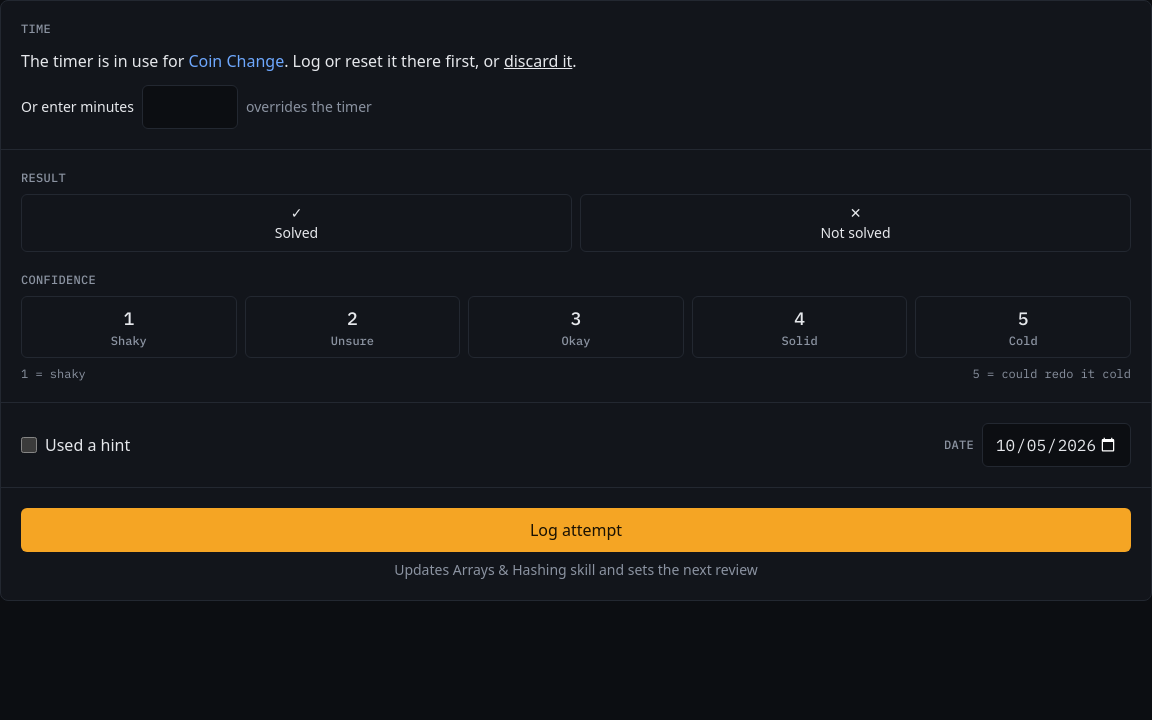
Test: another problem's timer can be discarded
Click the button "discard it": click(538, 61) [504,49,572,73]
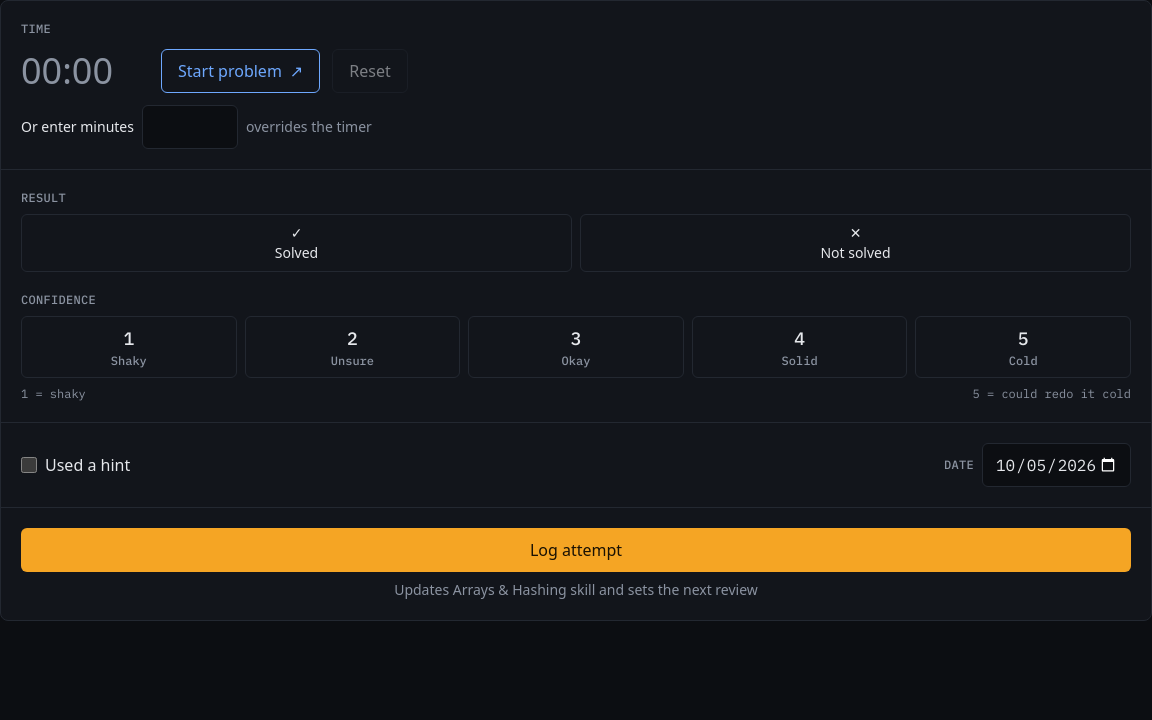
Result: the button "Start problem ↗" is shown at [161,49,320,93]
